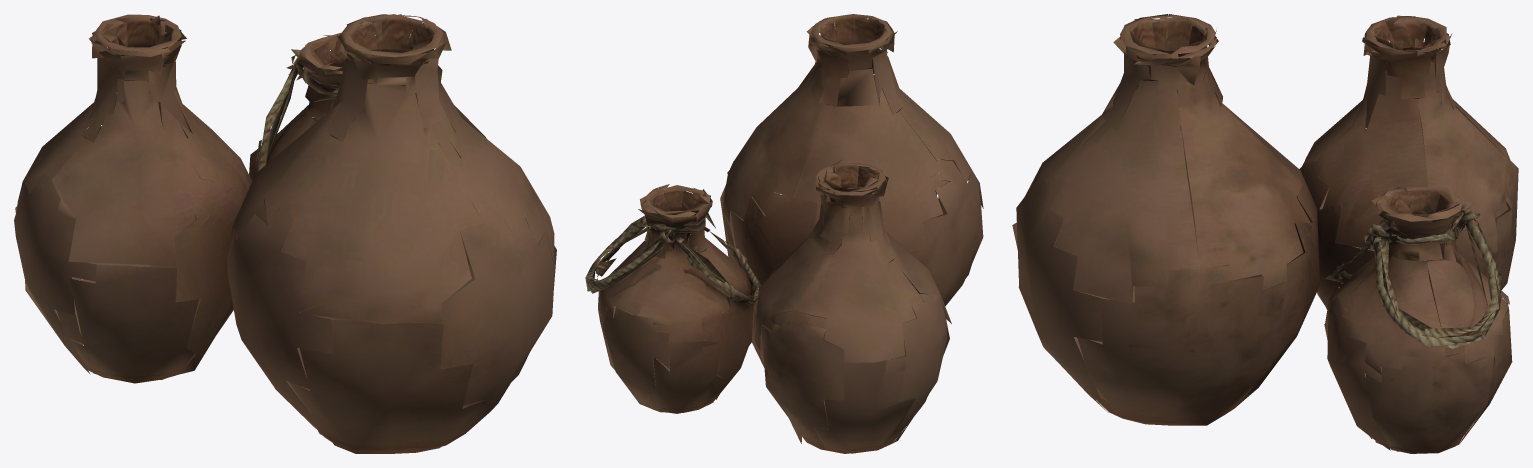
Rendered from jars.glb.
The picture shows the model from 3 angles, left to right: view 1: azimuth 30°, elevation 25°; view 2: azimuth 150°, elevation 25°; view 3: azimuth 270°, elevation 25°; orthographic projection. The views are drawn at different scales.
Visible parts, largest first — view 1: ch1.jars.001; view 2: ch1.jars.001; view 3: ch1.jars.001.
Boxes of the visible parts, bbox=[...] form: ch1.jars.001: bbox=[14, 14, 556, 453]; ch1.jars.001: bbox=[585, 14, 983, 453]; ch1.jars.001: bbox=[1012, 14, 1518, 453].
Bounding box in the file's own units: 0.8992 × 0.8007 × 1.
1 material, 1 textured.
